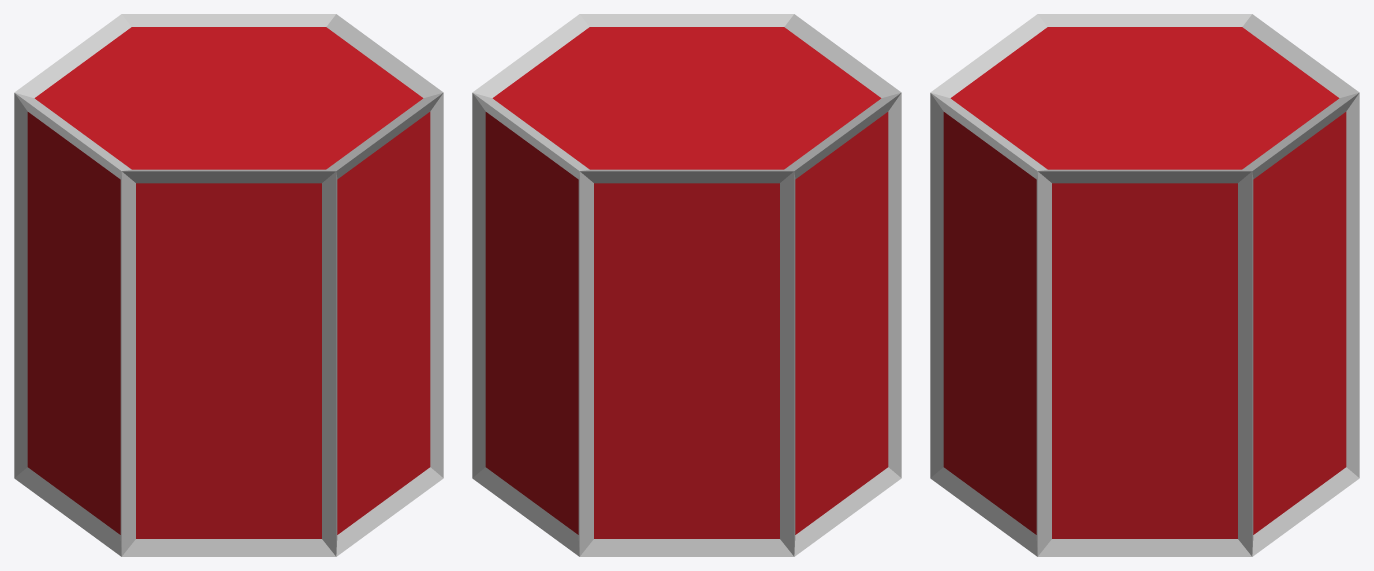
File: Hexagon.fbx
The picture shows the model from 3 angles, left to right: view 1: azimuth 30°, elevation 25°; view 2: azimuth 150°, elevation 25°; view 3: azimuth 270°, elevation 25°; orthographic projection.
Parts seen in each view (by area): view 1: Cylinder; view 2: Cylinder; view 3: Cylinder.
Boxes of the visible parts, left/top/right/bottom form: Cylinder: left=14, top=14, right=443, bottom=556; Cylinder: left=472, top=14, right=901, bottom=556; Cylinder: left=930, top=14, right=1359, bottom=556.
Size of the model in its own units: 180 by 206 by 208.
